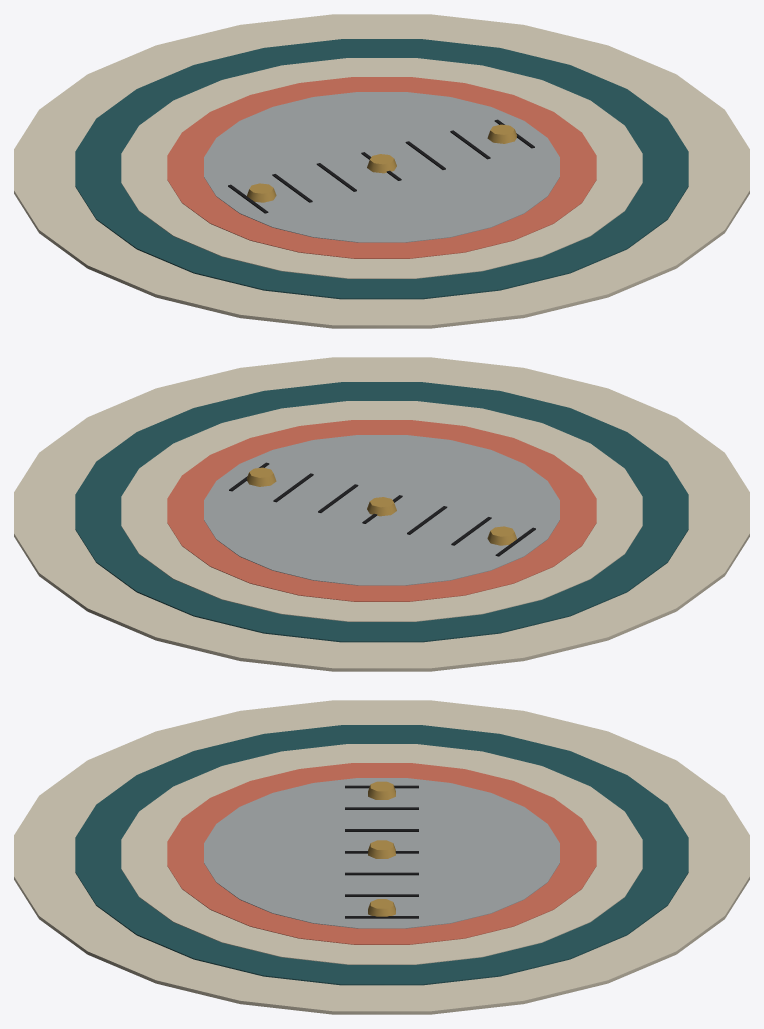
Rendered from FountainMIA.fbx.
3 renders of one model, top to bottom at view 1: azimuth 30°, elevation 25°; view 2: azimuth 150°, elevation 25°; view 3: azimuth 270°, elevation 25°, orthographic.
Parts seen in each view (by area): view 1: FountainMIA; view 2: FountainMIA; view 3: FountainMIA.
Boxes of the visible parts, left/top/right/bottom form: FountainMIA: left=14, top=14, right=749, bottom=328; FountainMIA: left=14, top=357, right=749, bottom=671; FountainMIA: left=14, top=700, right=749, bottom=1014.
Size of the model in its own units: 2.38 by 0.05 by 2.38.
